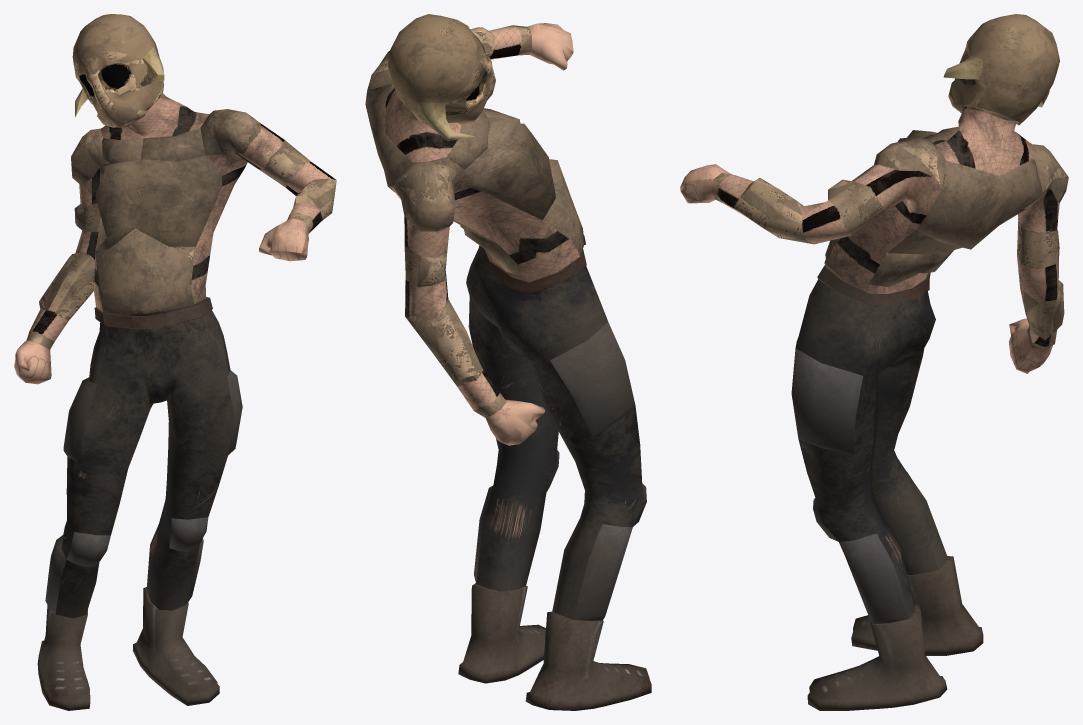
File: Anim_recibirdanyo_npc1.0021.obj
3 renders of one model, left to right at view 1: azimuth 30°, elevation 25°; view 2: azimuth 150°, elevation 25°; view 3: azimuth 270°, elevation 25°, orthographic. The views are drawn at different scales.
Parts seen in each view (by area): view 1: NPC2; view 2: NPC2; view 3: NPC2.
Boxes of the visible parts, x1,y1,x2,y2 form: NPC2: [14, 14, 336, 710]; NPC2: [365, 14, 651, 710]; NPC2: [680, 14, 1068, 710].
Size of the model in its own units: 3.83 by 8.88 by 4.56.
